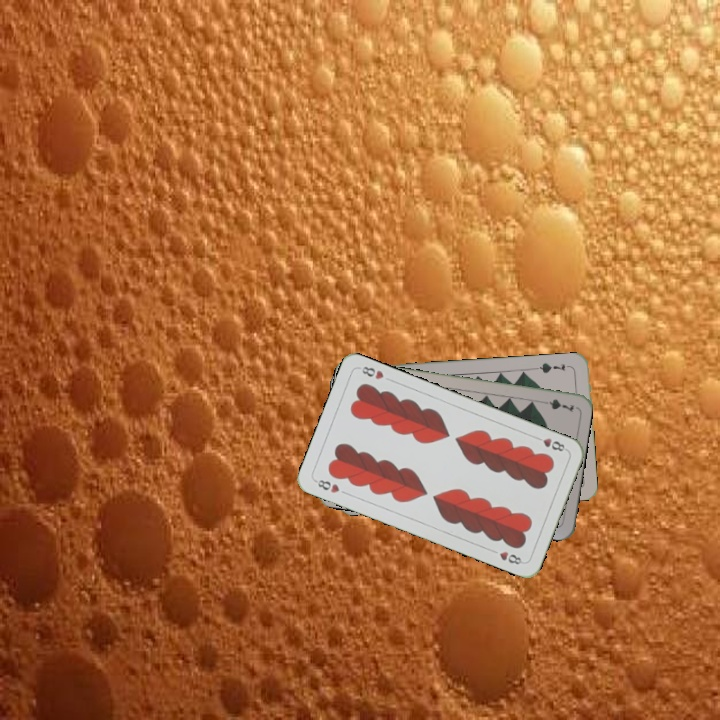G7: (536, 395, 577, 415), (533, 359, 568, 376)
H8: (531, 432, 570, 454), (311, 475, 342, 496)
